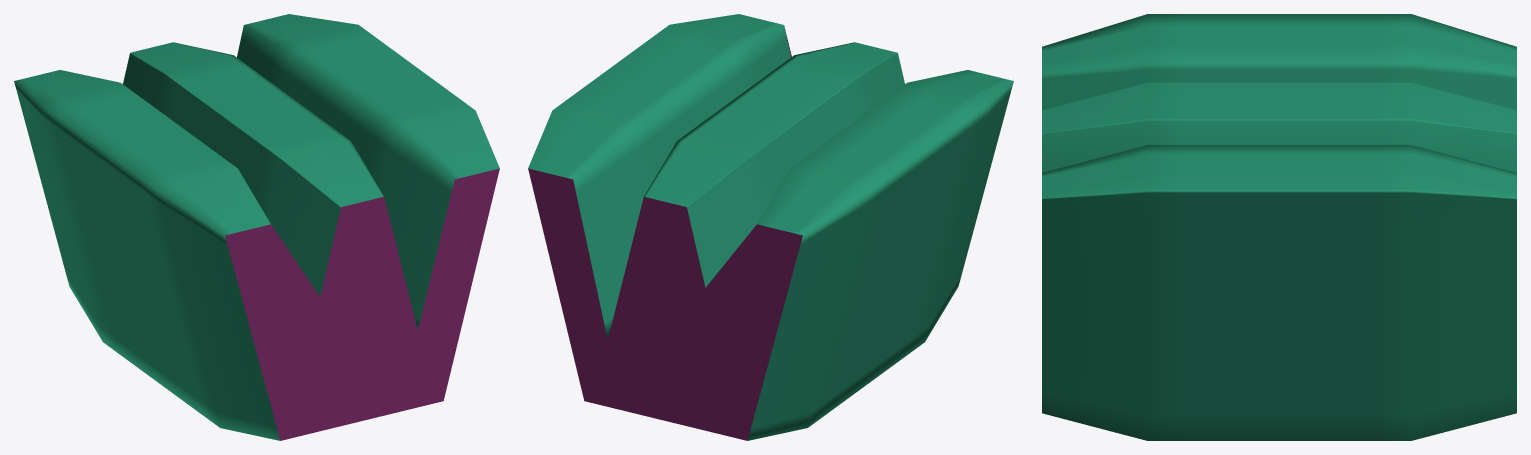
File: 3DtypeexportW.fbx
The picture shows the model from 3 angles, left to right: view 1: azimuth 30°, elevation 25°; view 2: azimuth 150°, elevation 25°; view 3: azimuth 270°, elevation 25°; orthographic projection. The views are drawn at different scales.
Visible parts, largest first — view 1: bevelPolygon1; view 2: bevelPolygon1; view 3: bevelPolygon1.
Part boxes in pixels (bbox=[...]): bevelPolygon1: bbox=[14, 14, 499, 440]; bevelPolygon1: bbox=[528, 14, 1013, 440]; bevelPolygon1: bbox=[1042, 14, 1516, 440].
Size of the model in its own units: 1.85 by 1.41 by 2.11.
